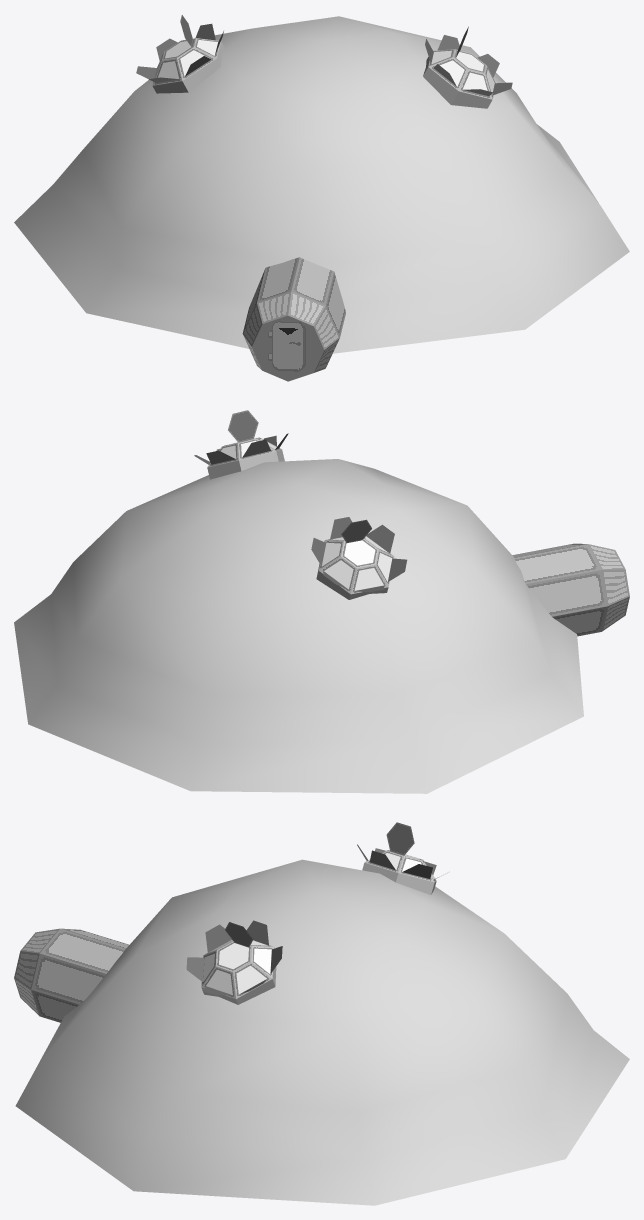
Rendered from BasicHab.glb.
3 renders of one model, top to bottom at view 1: azimuth 30°, elevation 25°; view 2: azimuth 150°, elevation 25°; view 3: azimuth 270°, elevation 25°, orthographic.
Parts seen in each view (by area): view 1: Hab.002; view 2: Hab.002; view 3: Hab.002.
Part boxes in pixels (x1,y1,x2,y2): Hab.002: (14, 15, 629, 381); Hab.002: (14, 410, 629, 793); Hab.002: (14, 822, 629, 1205).
Bounding box in the file's own units: 19.98 × 8.08 × 20.19.
Materials: 3 (1 with a texture image).
